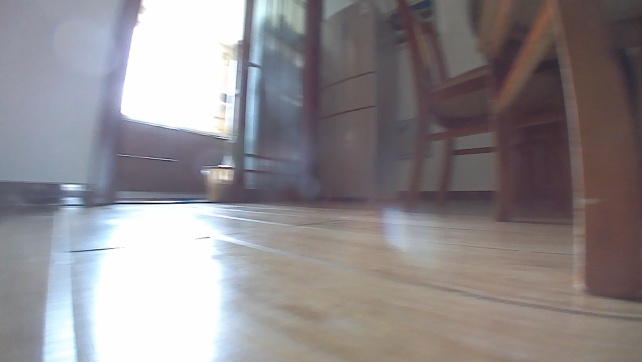dining_table1: (390, 0, 641, 308)
refrigerator: (314, 0, 399, 203)
